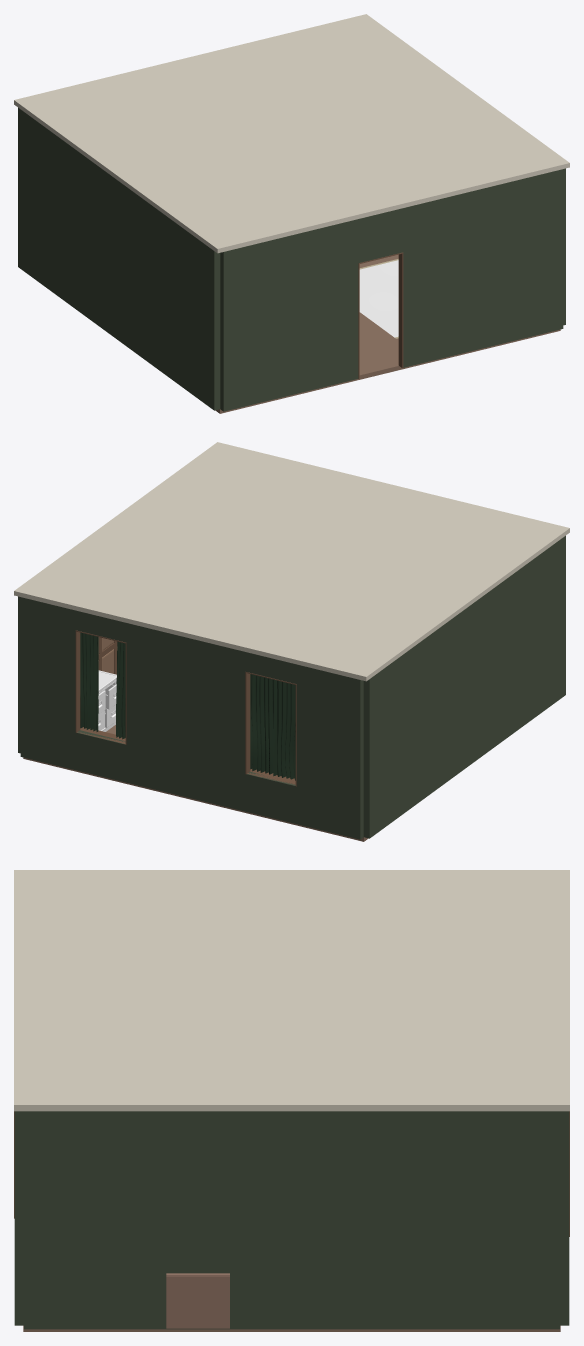
File: study.glb
The picture shows the model from 3 angles, top to bottom: view 1: azimuth 30°, elevation 25°; view 2: azimuth 150°, elevation 25°; view 3: azimuth 270°, elevation 25°; orthographic projection. The views are drawn at different scales.
Parts seen in each view (by area): view 1: ROOM__study; view 2: ROOM__study; view 3: ROOM__study.
Boxes of the visible parts, box(x1,y1,x2,y2) form: ROOM__study: box(14, 14, 569, 413); ROOM__study: box(14, 442, 569, 841); ROOM__study: box(14, 870, 569, 1331).
Size of the model in its own units: 8.37 by 3.8 by 8.3.
